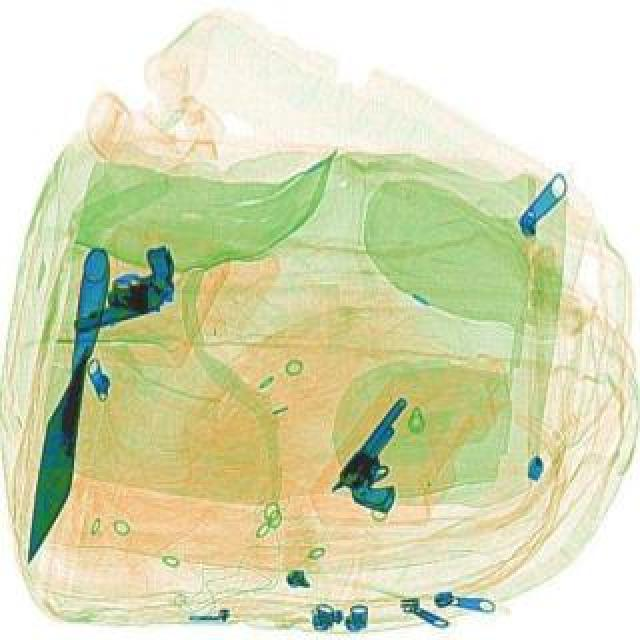gun: (326, 392, 452, 518), (54, 240, 190, 334)
knife: (8, 244, 128, 566)
